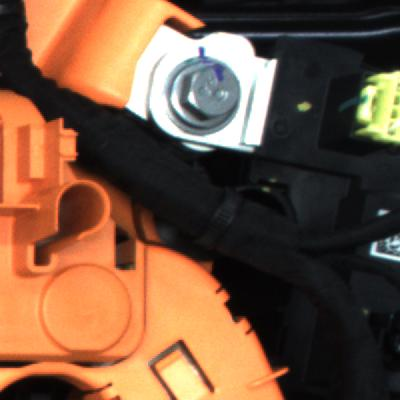nut_b: (172, 65, 262, 136)
